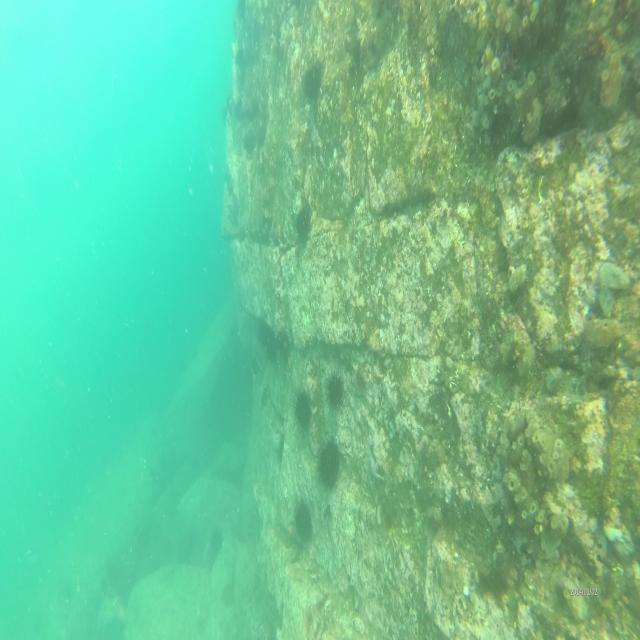echinus: (318, 441, 342, 492), (324, 368, 345, 409), (305, 58, 325, 101), (294, 499, 314, 541), (293, 392, 313, 426), (273, 329, 293, 360), (297, 207, 311, 243), (258, 325, 272, 357)
